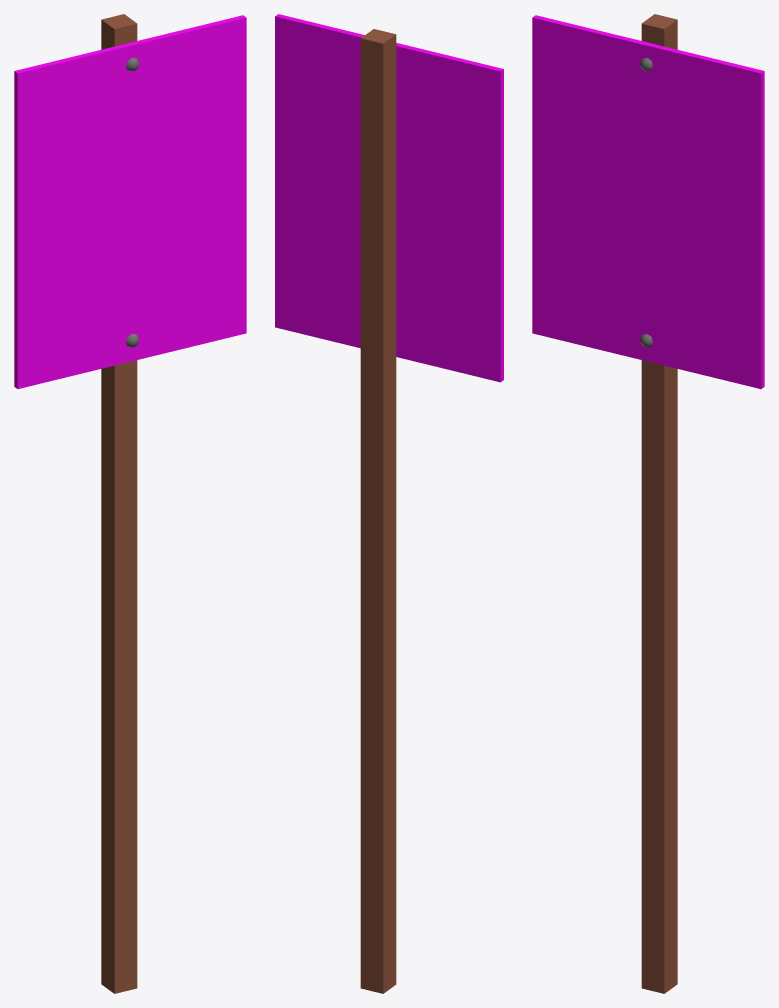
Rendered from sign_sqr.fbx.
3 views of the same model, side by side, from view 1: azimuth 30°, elevation 25°; view 2: azimuth 150°, elevation 25°; view 3: azimuth 330°, elevation 25° (orthographic).
Visible parts, largest first — view 1: square_sign, pole; view 2: square_sign, pole; view 3: square_sign, pole.
Part boxes in pixels (x1,y1,x2,y2): square_sign: (14,15,246,388); pole: (101,14,137,993); square_sign: (275,14,503,382); pole: (360,29,396,993); square_sign: (532,15,764,388); pole: (641,14,677,993).
Size of the model in its own units: 18.81 by 75.76 by 3.19.
